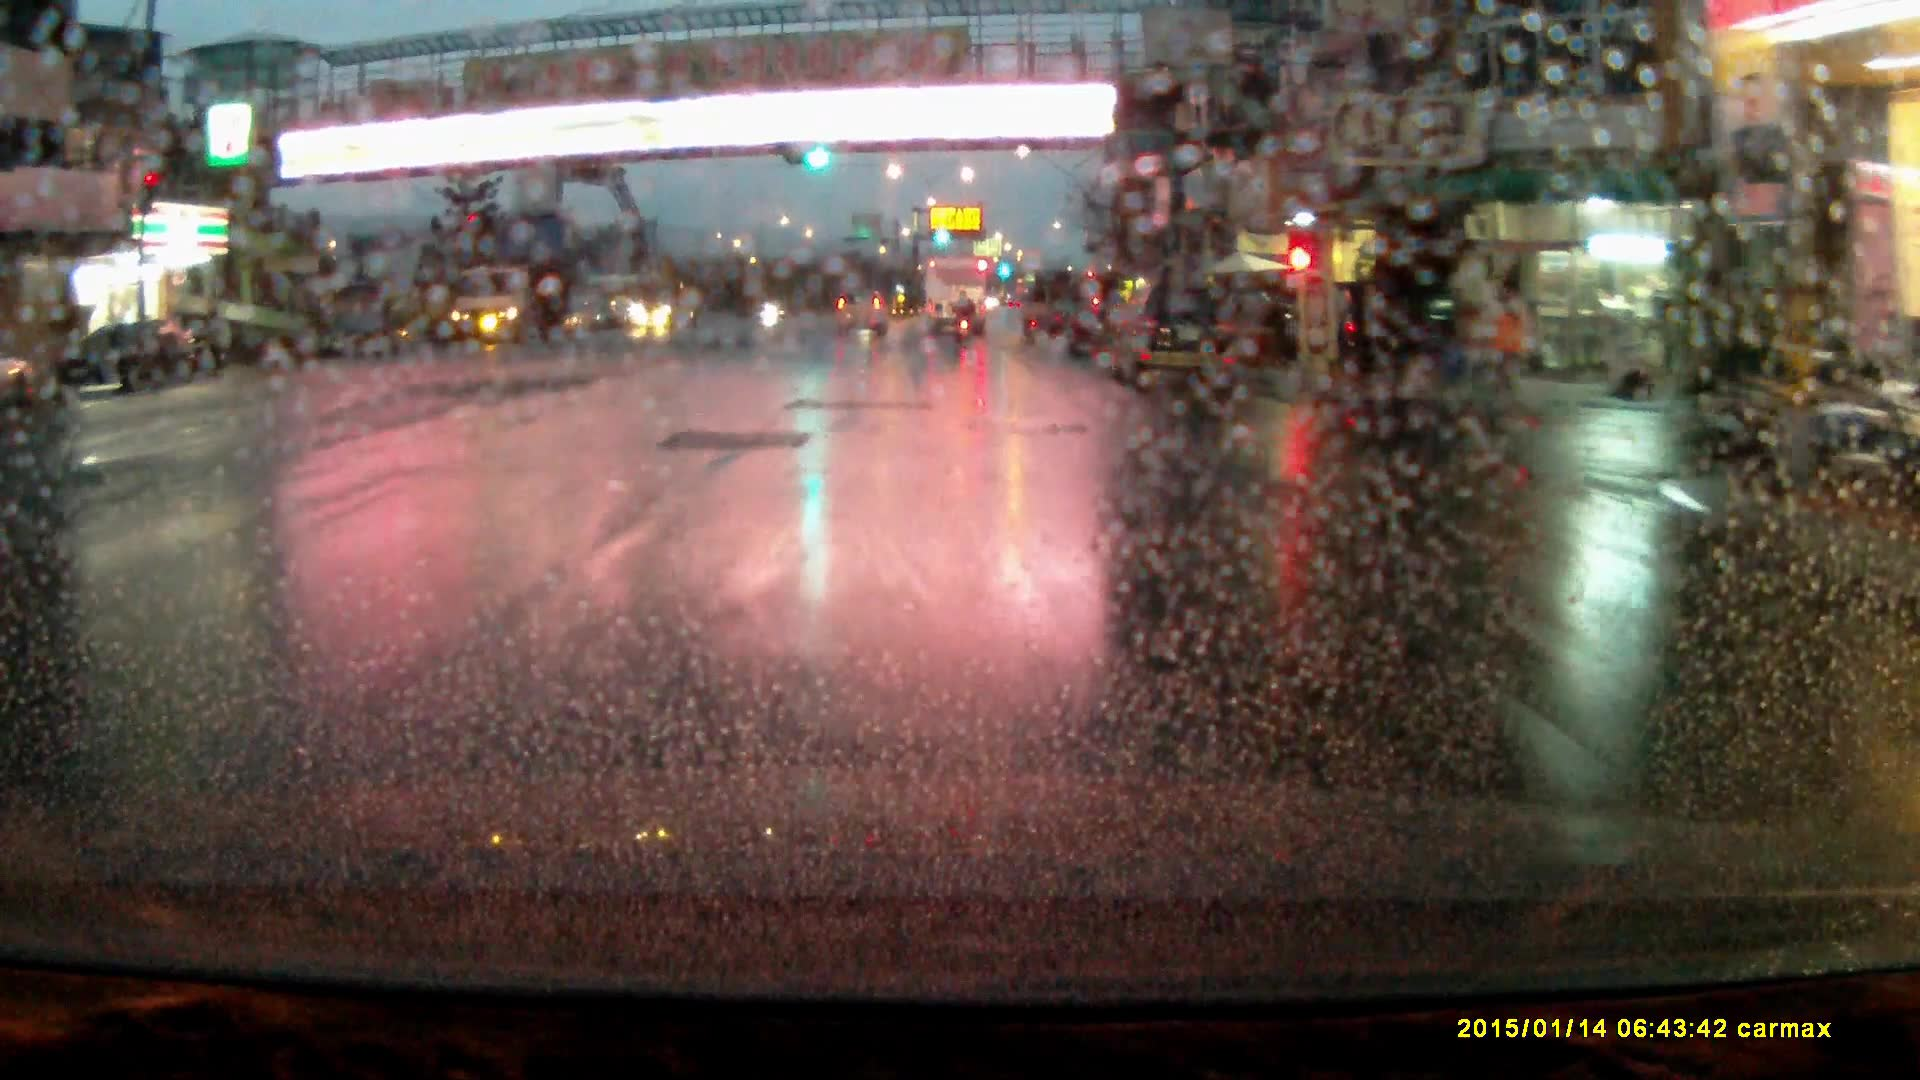pedestrian: (1475, 278, 1535, 447)
rider: (953, 290, 978, 348)
vehicle: (1108, 279, 1239, 394), (53, 322, 197, 399), (1341, 283, 1457, 372), (442, 263, 562, 343), (925, 258, 986, 336), (629, 281, 697, 331), (836, 292, 890, 340)
